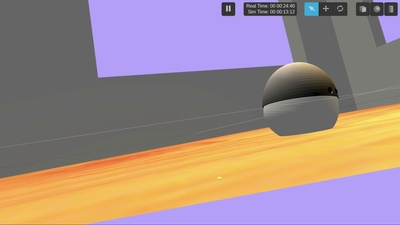mira_robot: (261, 61, 340, 136)
